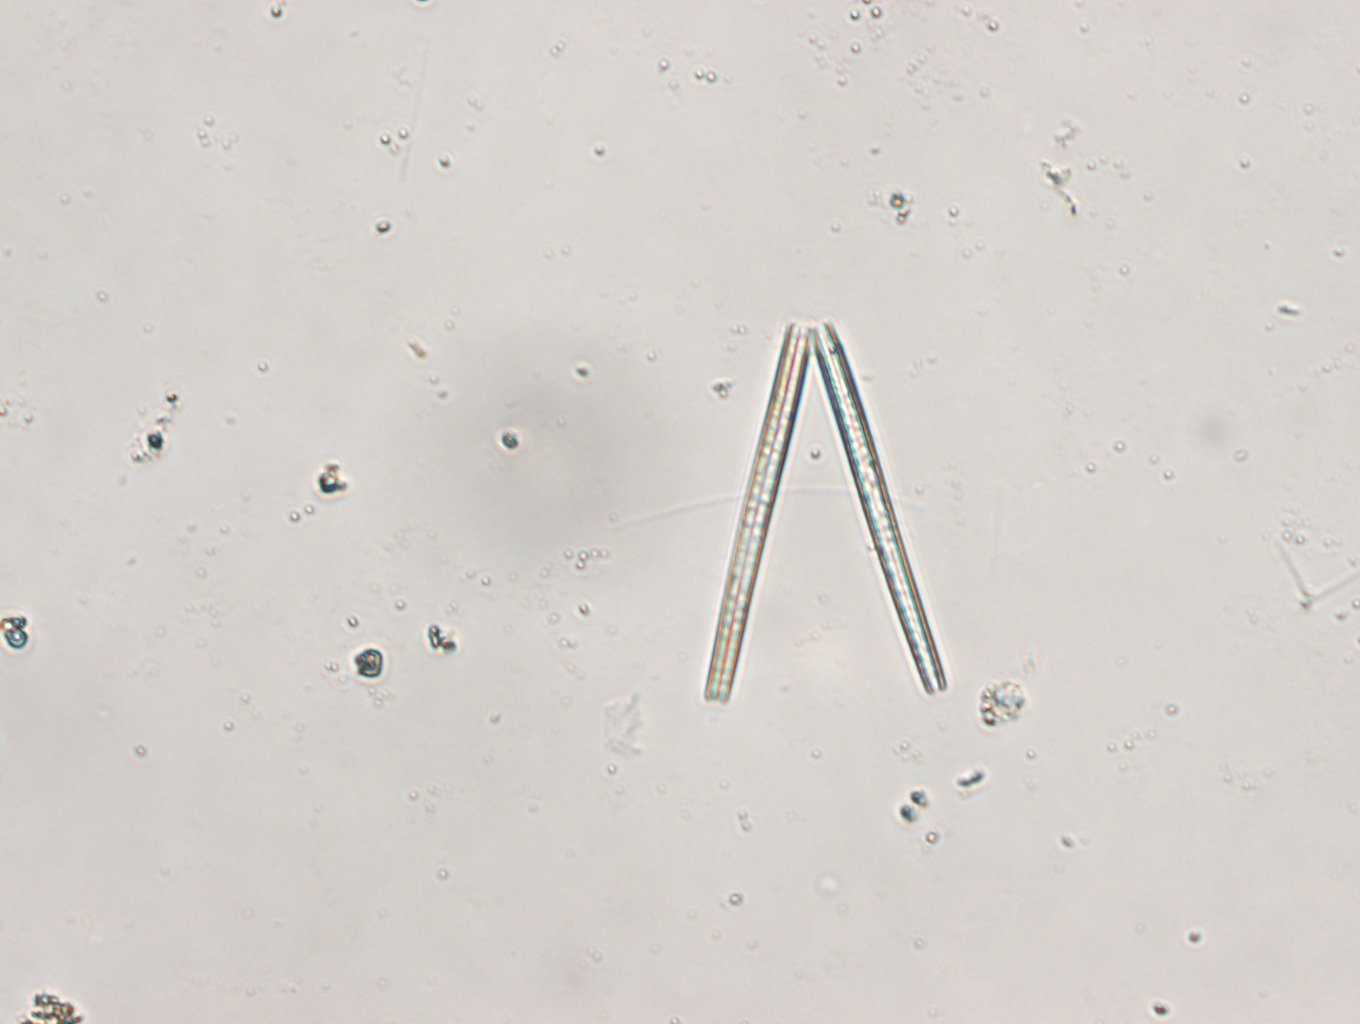thalassionema frauenfeldii: (695, 316, 948, 707)
